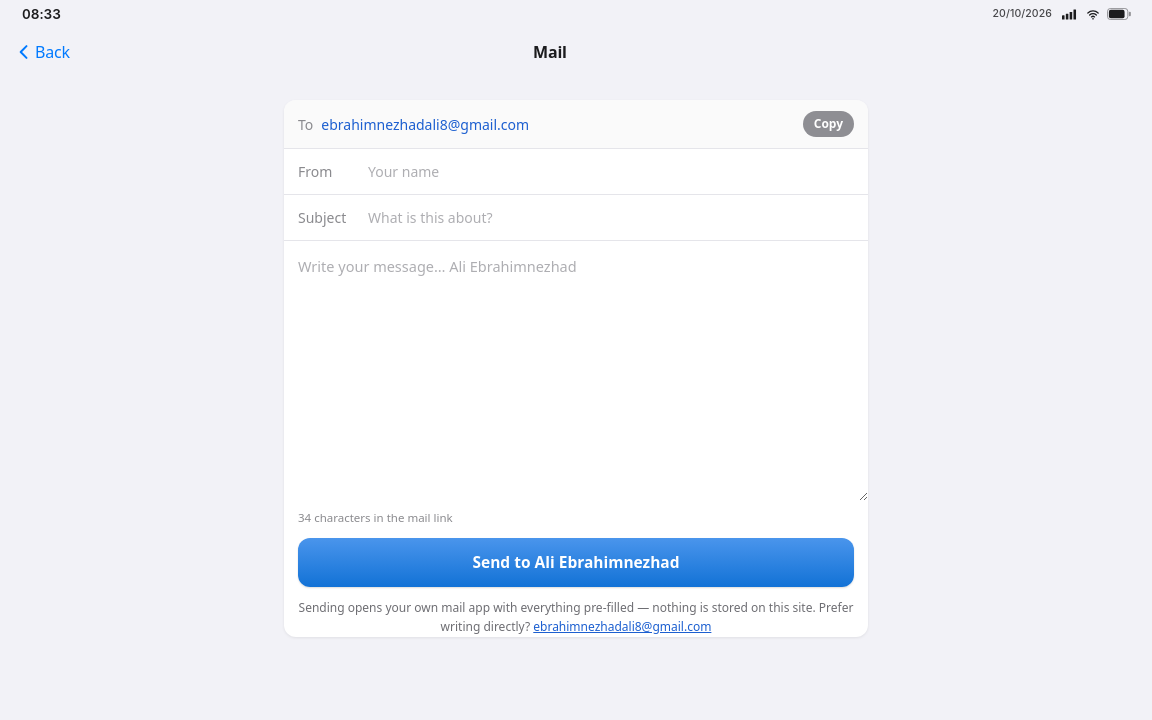
Scenario: MailApp › clears the confirmation once the draft is edited again
This screenshot has width=1152, height=720.
Type "Hello" into the field labelled "Subject". click: (610, 218)
box: [366,206,854,229]
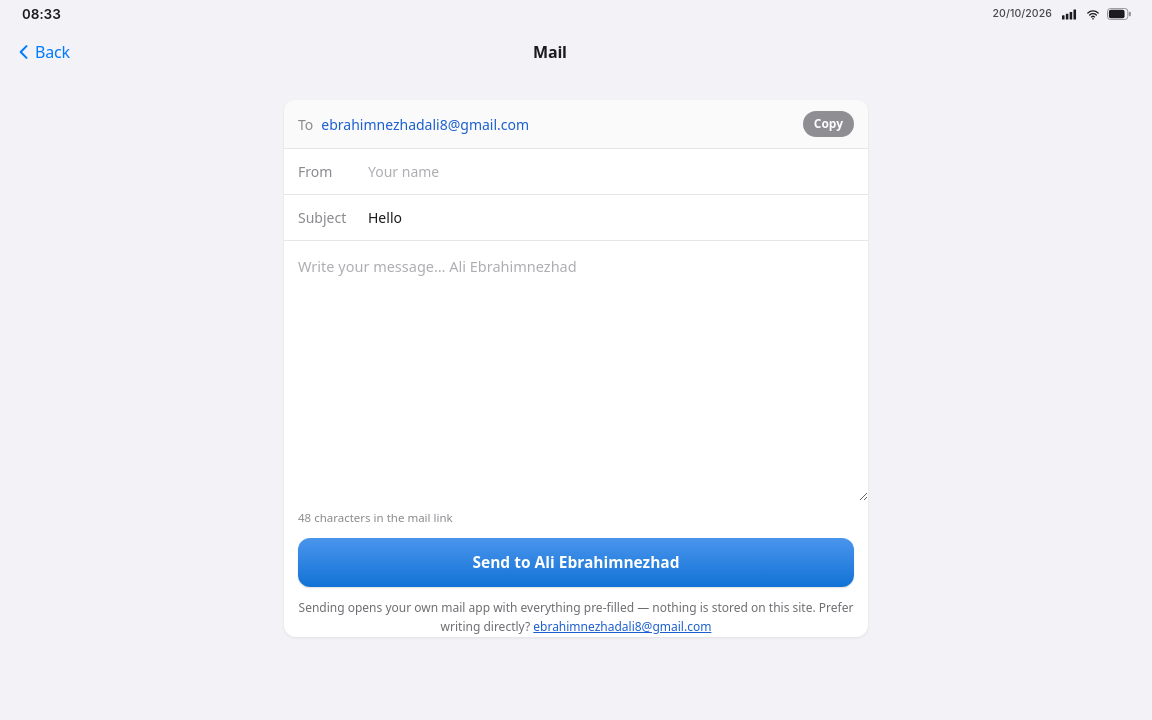
Type "Hi there." into the text box labelled "message". click: (576, 371)
box: [284,241,868,501]
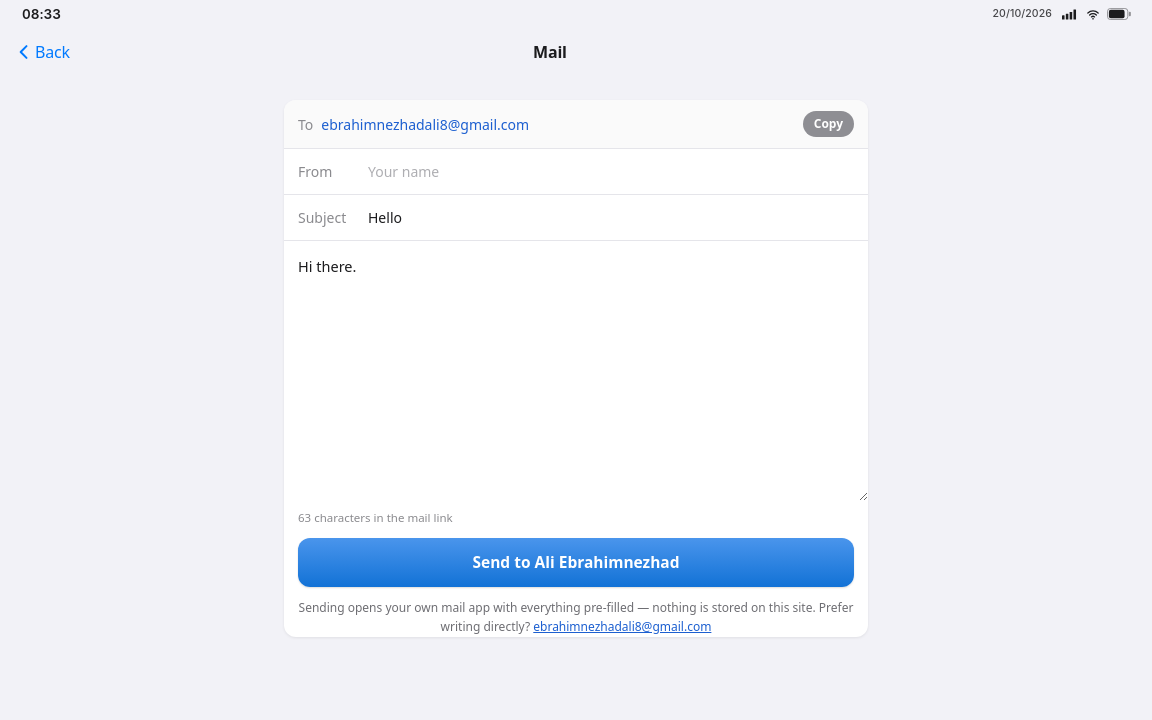
Click the link with test id "mail-send". click: (576, 563)
box: [298,538,854,587]
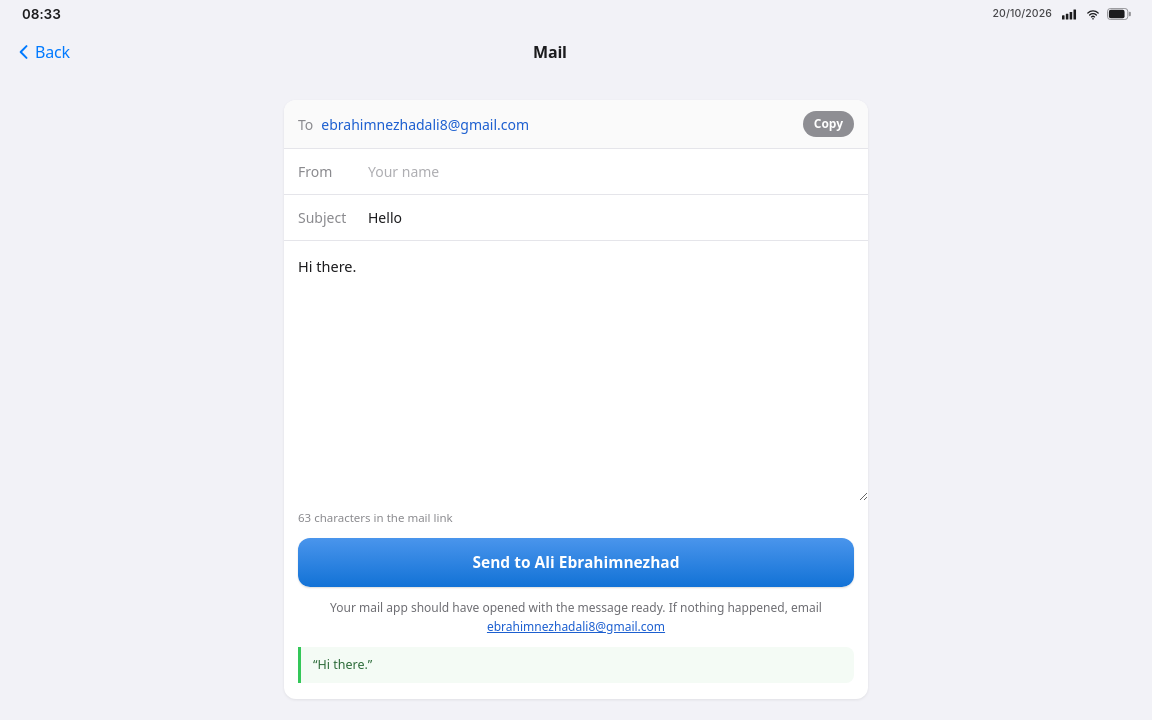
Expected: the text "“Hi there.”" is shown, [298,647,854,683]
Replace the text in the text box named "message" with "Hi there again.". click: (576, 371)
box: [284,241,868,501]
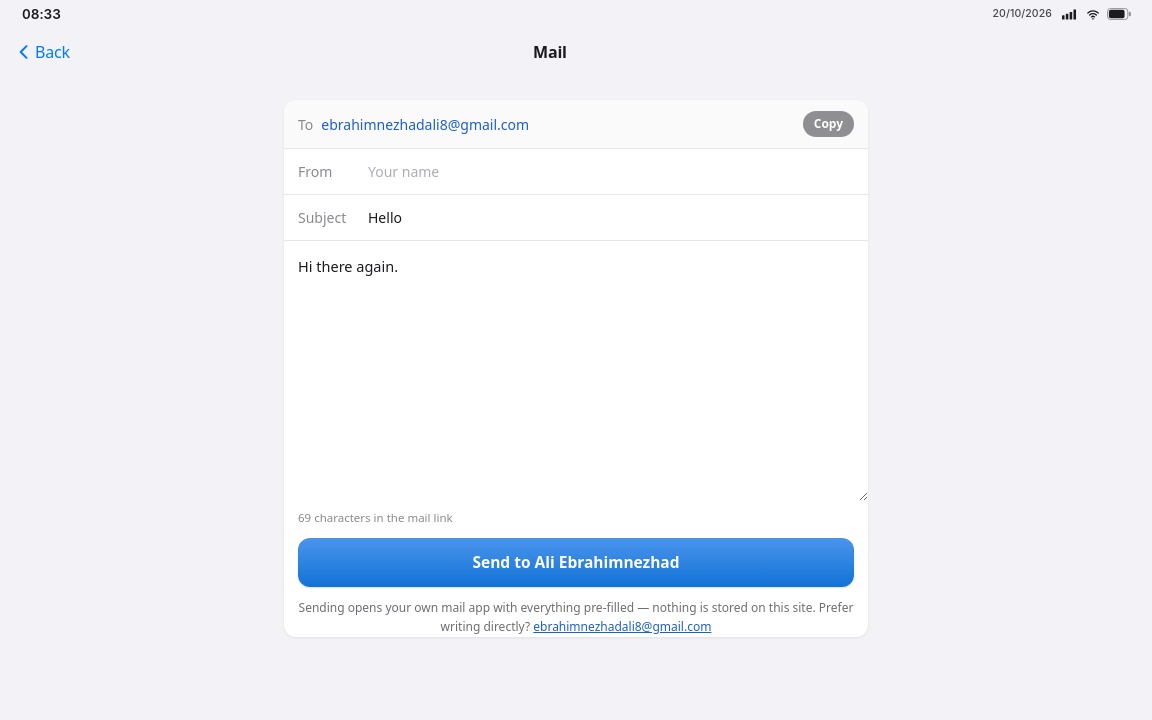
Expected: the text with test id "mail-preview" is gone
